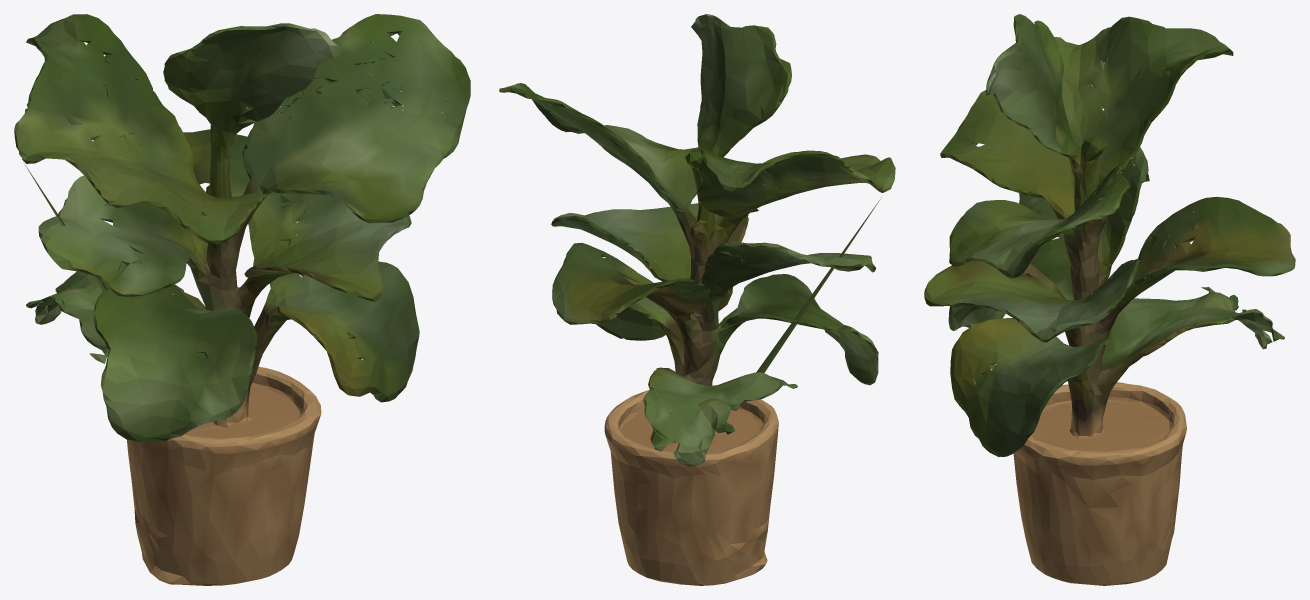
The model's file is plant.glb.
3 renders of one model, left to right at view 1: azimuth 30°, elevation 25°; view 2: azimuth 150°, elevation 25°; view 3: azimuth 270°, elevation 25°, orthographic. The views are drawn at different scales.
Size of the model in its own units: 4.66e-05 by 5.97e-05 by 3.81e-05.
